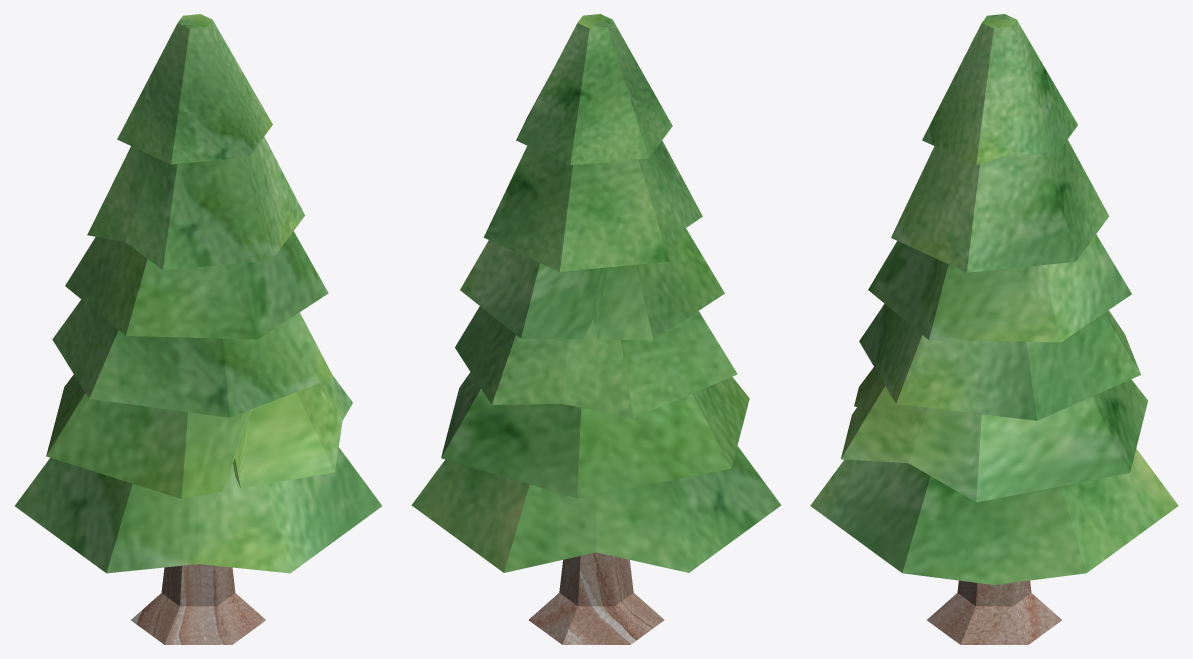
File: Tree.fbx
The picture shows the model from 3 angles, left to right: view 1: azimuth 30°, elevation 25°; view 2: azimuth 150°, elevation 25°; view 3: azimuth 270°, elevation 25°; orthographic projection.
Visible parts, largest first — view 1: Tree 1; view 2: Tree 1; view 3: Tree 1.
Part boxes in pixels (<box>): Tree 1: <box>15,14,381,644</box>; Tree 1: <box>411,14,781,644</box>; Tree 1: <box>810,14,1178,644</box>.
Bounding box in the file's own units: 215 × 425 × 237.
